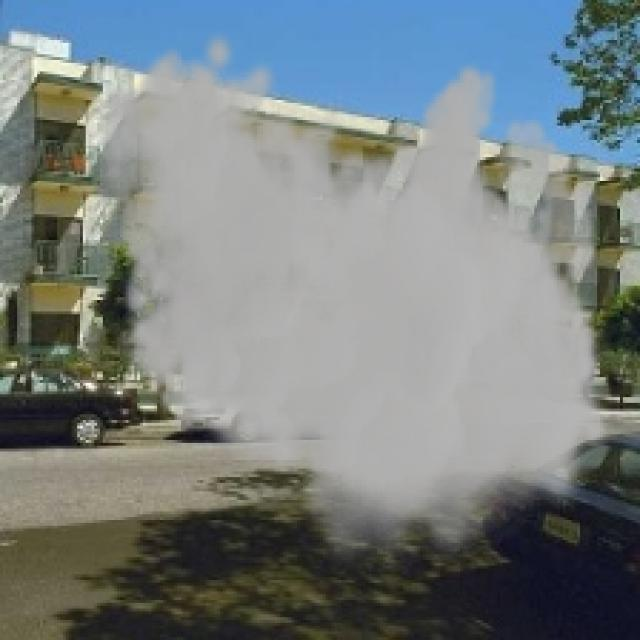smoke: (97, 29, 614, 574)
